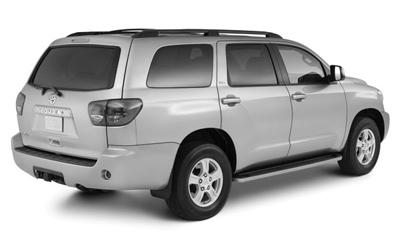car: (7, 26, 392, 225)
